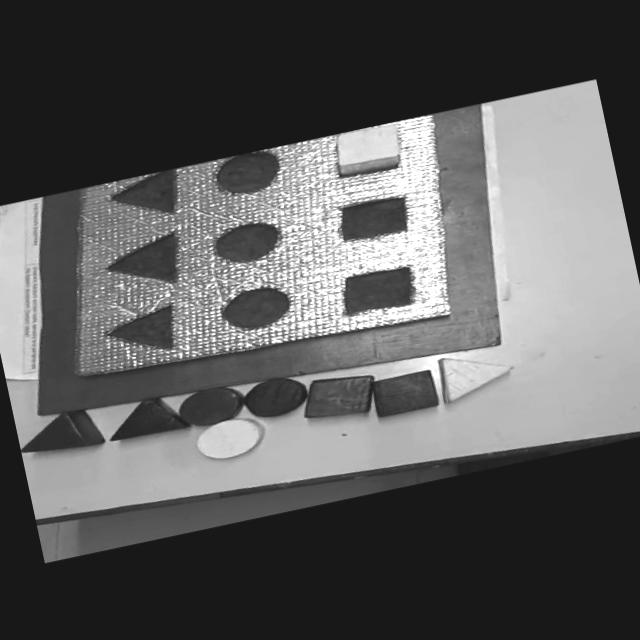bcircle: (240, 372, 310, 421)
bcube: (368, 368, 442, 418)
btriangle: (101, 389, 188, 444)
mtcircle: (218, 280, 295, 334), (210, 216, 284, 268), (212, 148, 284, 198)
mtcube: (338, 261, 422, 317), (334, 191, 416, 245)
mttriangle: (99, 230, 189, 295), (101, 302, 184, 360), (105, 167, 186, 224)
rcircle: (174, 381, 247, 430)
rcube: (297, 368, 380, 424)
rtriangle: (14, 404, 105, 461)
wb: (35, 109, 487, 394)
ycircle: (190, 410, 270, 464)
ycube: (332, 121, 402, 177)
ytriangle: (434, 344, 516, 404)
